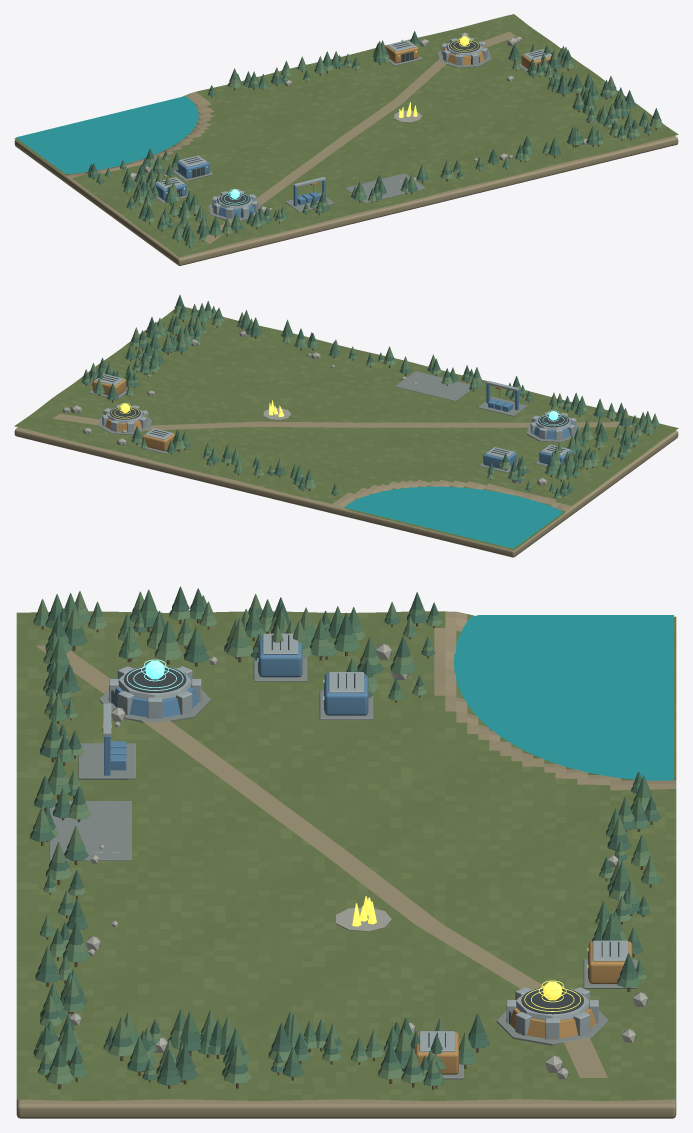
Rendered from environment.glb.
3 views of the same model, one above another, from view 1: azimuth 30°, elevation 25°; view 2: azimuth 150°, elevation 25°; view 3: azimuth 270°, elevation 25° (orthographic). The views are drawn at different scales.
Visible parts, largest first — view 1: Meadow and shore, Lake, Landmass, Supply road, Landing apron; view 2: Meadow and shore, Lake, Landmass, Supply road, Landing apron; view 3: Meadow and shore, Lake, Landmass, Supply road, Landing apron, Factory slab, Hangar hull.001, Hangar hull, Reactor dish.001, Reactor dish, Hangar hull.003, HQ armored base.001 (+3 smaller).
Boxes of the visible parts, x1,y1,x2,y2 form: Meadow and shore: (14,14,678,257); Lake: (16,96,198,173); Landmass: (14,135,678,265); Supply road: (204,31,516,243); Landing apron: (345,173,425,203); Meadow and shore: (14,307,678,550); Lake: (344,486,562,548); Landmass: (14,427,678,557); Supply road: (53,413,632,430); Landing apron: (395,371,470,401); Meadow and shore: (16,611,676,1100); Lake: (453,615,673,780); Landmass: (16,1099,676,1118); Supply road: (36,645,607,1077); Landing apron: (49,801,131,860); Factory slab: (78,743,135,779); Hangar hull.001: (324,673,368,715); Hangar hull: (258,634,302,677); Reactor dish.001: (521,987,583,1014); Reactor dish: (123,666,186,692); Hangar hull.003: (588,941,632,983); HQ armored base.001: (506,996,599,1039).
Bounding box in the file's own units: 140 × 8.7 × 80.
